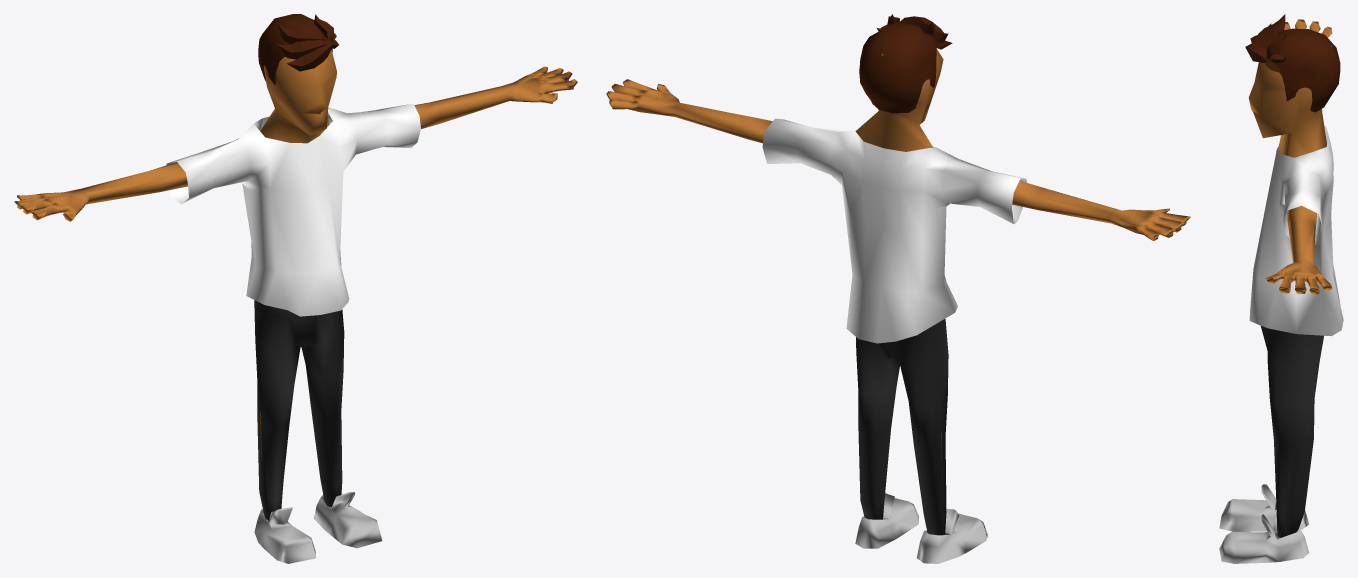
The model's file is Man_T.fbx.
3 renders of one model, left to right at view 1: azimuth 30°, elevation 25°; view 2: azimuth 150°, elevation 25°; view 3: azimuth 270°, elevation 25°, orthographic. The views are drawn at different scales.
Visible parts, largest first — view 1: Man; view 2: Man; view 3: Man.
Part boxes in pixels (x1,y1,x2,y2): Man: (14, 14, 577, 563); Man: (606, 14, 1190, 563); Man: (1219, 14, 1343, 563).
Bounding box in the file's own units: 160 × 142 × 31.3.
2 materials, 2 textured.
